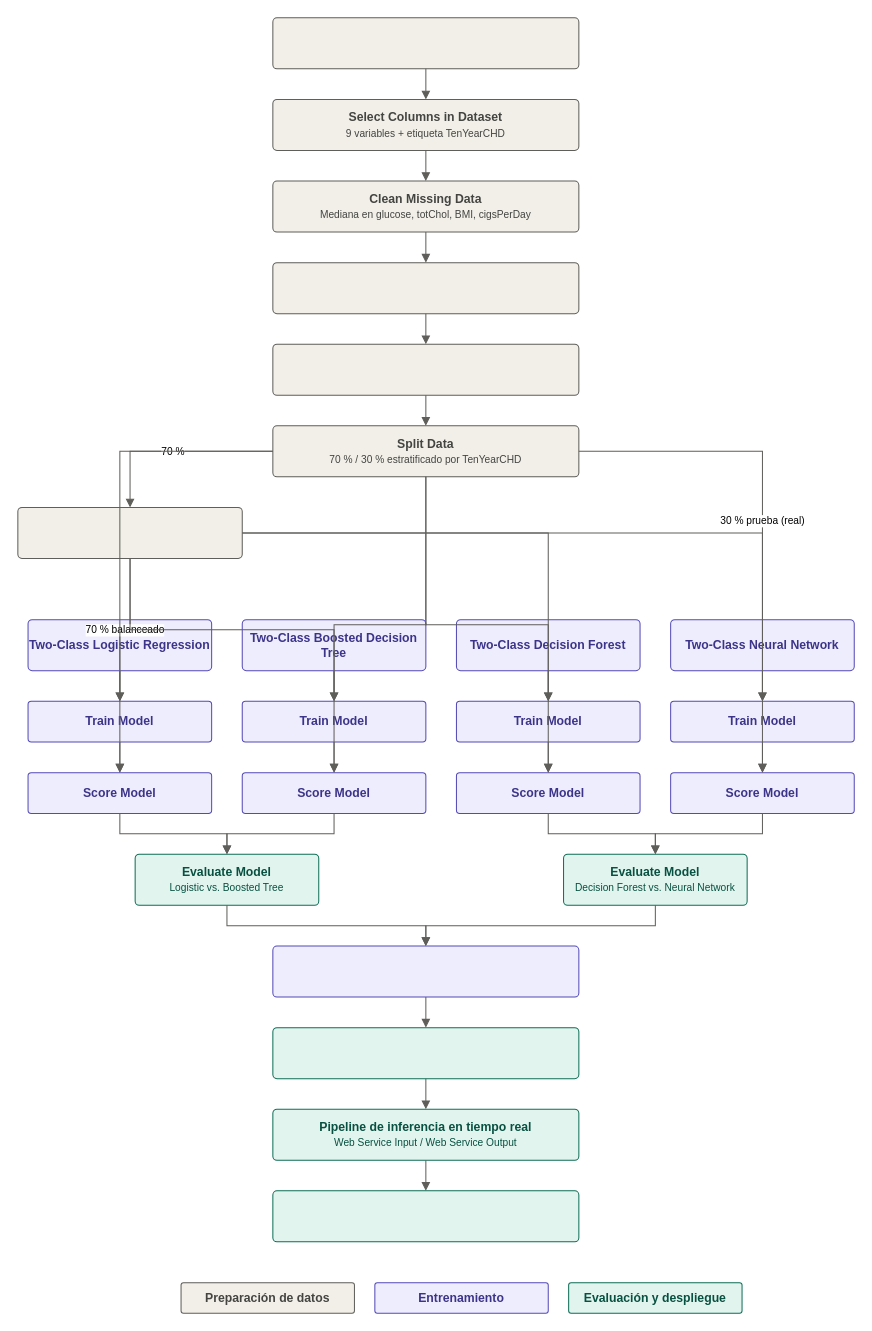
This 872x1331 diagram has some shape labels left out. The shapes that lost their labels are listed below. From the top down, each one's box as (x1, y1, x2, y2) in pixels, then its label:
(272, 17, 579, 69): Framingham Heart Study (Kaggle) Data asset CSV, ~4.000 pacientes
(272, 262, 579, 314): Edit Metadata currentSmoker y diabetes categóricas
(272, 343, 579, 395): Normalize Data ZScore en variables numéricas
(17, 506, 242, 558): SMOTE Solo entrenamiento, 300 %, 5 vecinos
(272, 945, 579, 997): Mejor modelo (recall / AUC / F1) Se conserva solo la rama ganadora
(272, 1027, 579, 1079): Permutation Feature Importance Métrica: Recall
(272, 1190, 579, 1242): Endpoint en tiempo real API REST en Azure Container Instances
